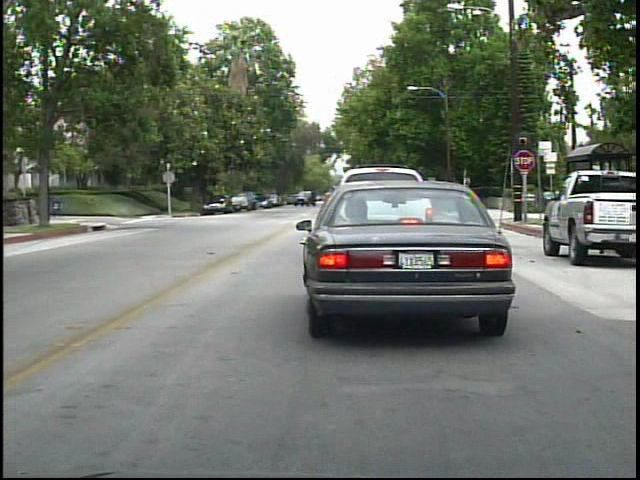person: (250, 189, 261, 213)
